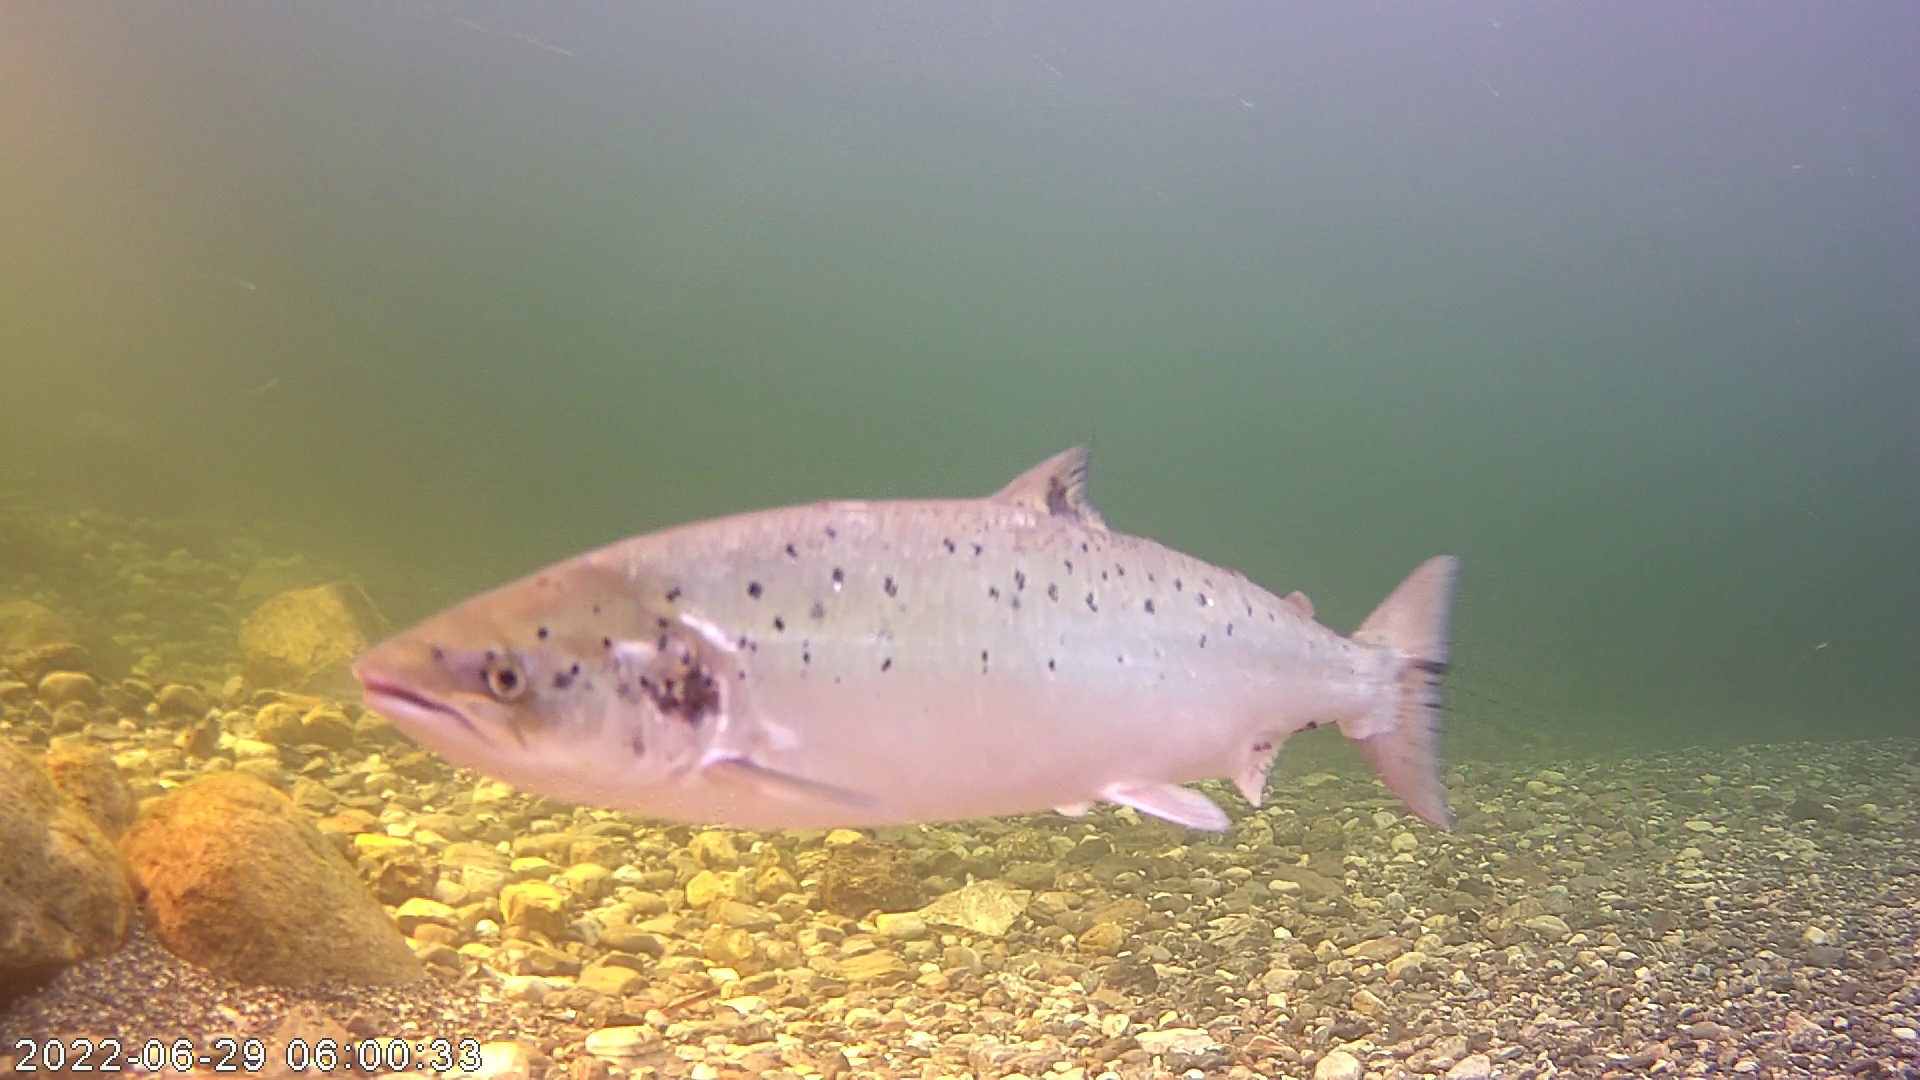salmon: (363, 331, 1453, 833)
